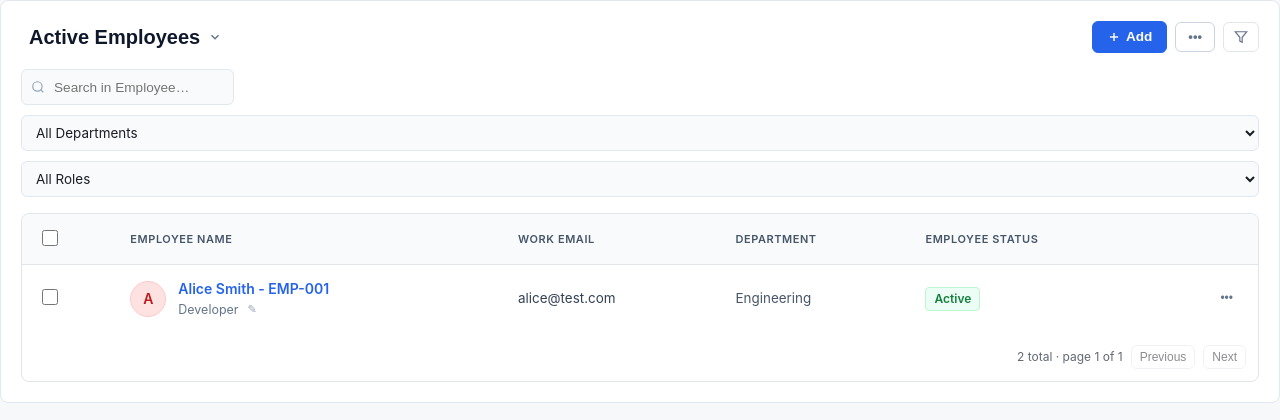
Scenario: Sub-feature 2.4: Bulk actions and Export Frontend › EmployeeListPage (F5, F6, F7) › F-2: bulk action selection capped at 100 with visible warning message
Expected: the text "Alice Smith - EMP-001" is shown, [178,278,329,299]
Select first row checkbox
Click the 2nd checkbox: point(50, 297) [42,289,58,305]
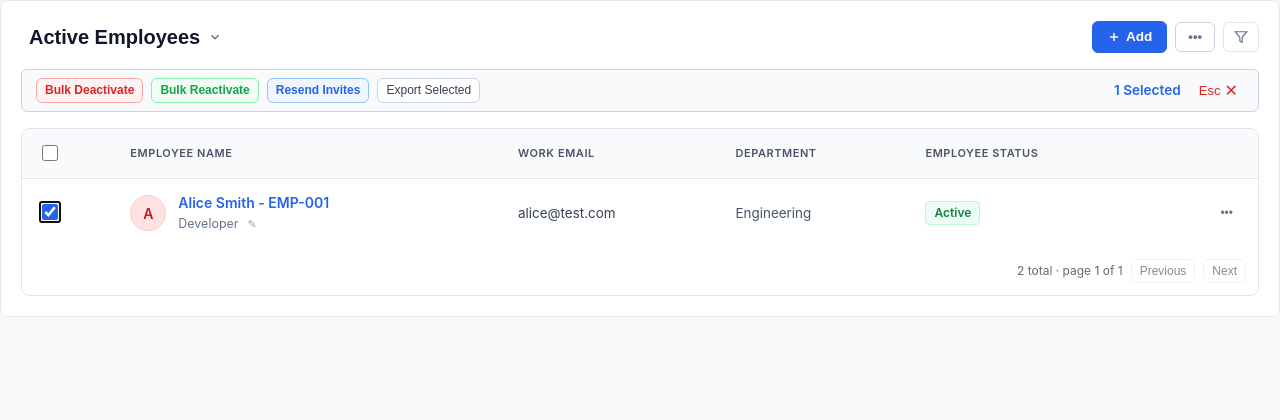
Expected: the button "Bulk Deactivate" is shown, [36,78,143,103]
